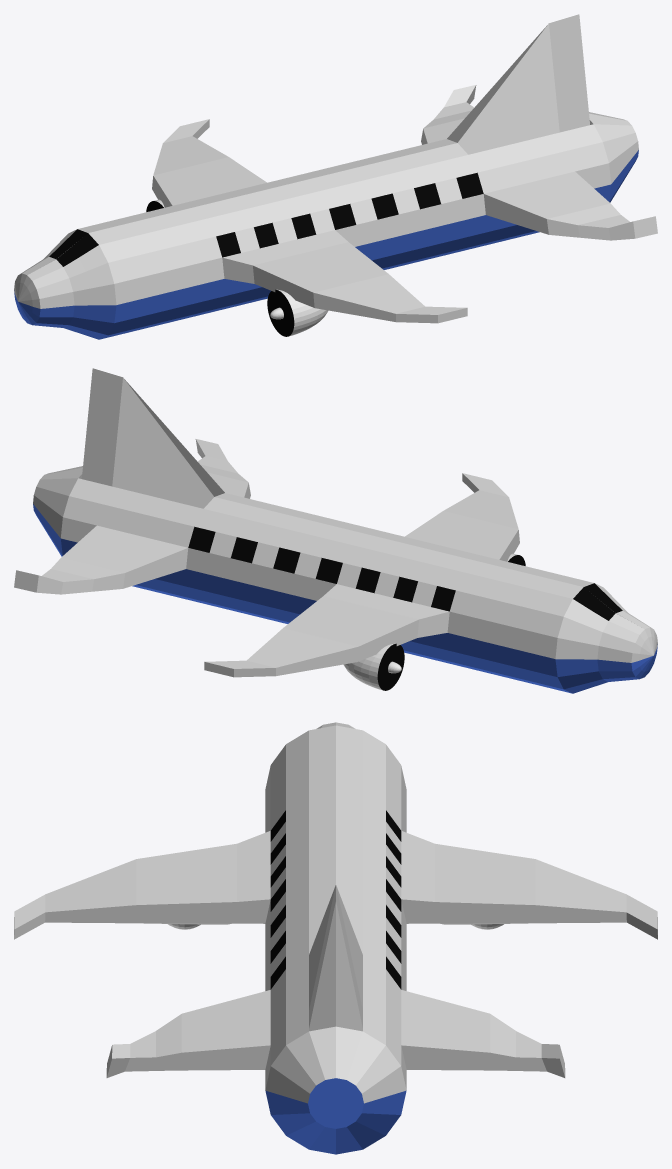
The model's file is Vliegtuig.fbx.
The picture shows the model from 3 angles, top to bottom: view 1: azimuth 30°, elevation 25°; view 2: azimuth 150°, elevation 25°; view 3: azimuth 270°, elevation 25°; orthographic projection. The views are drawn at different scales.
Visible parts, largest first — view 1: Plane, Sphere; view 2: Plane, Sphere; view 3: Plane.
Boxes of the visible parts, box(x1,y1,x2,y2) form: Plane: box(14, 14, 657, 339); Sphere: box(146, 199, 328, 336); Plane: box(14, 368, 657, 693); Sphere: box(343, 553, 525, 690); Plane: box(14, 722, 657, 1154).
Bounding box in the file's own units: 1243 × 393 × 912.
